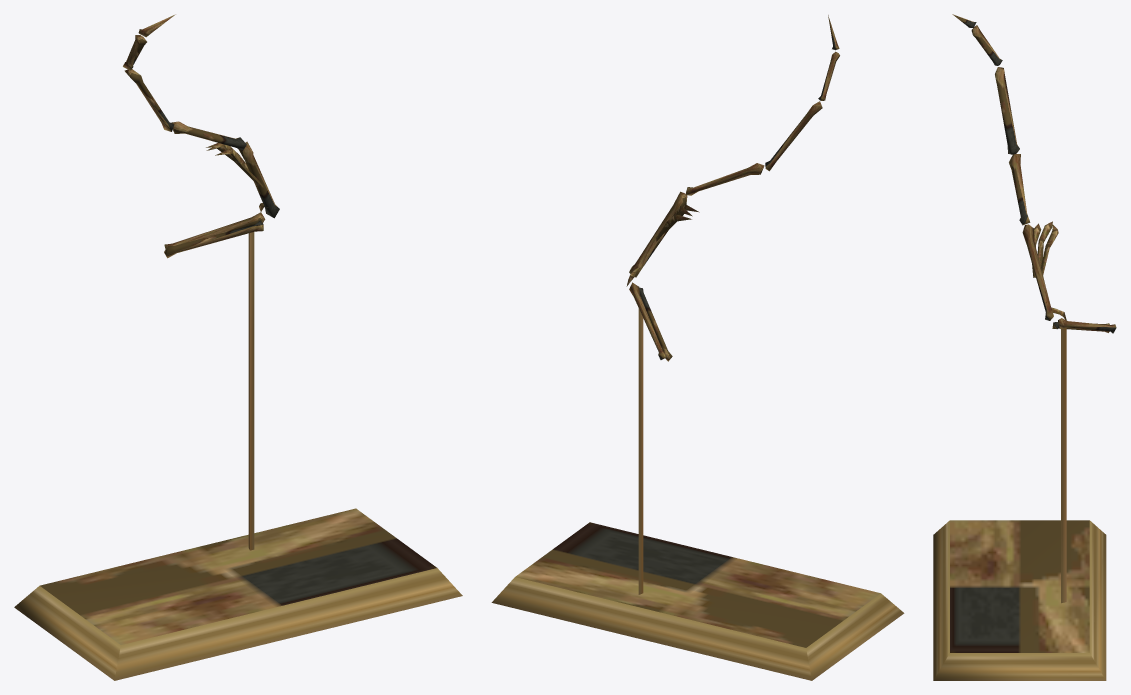
The model's file is int_din_pte_c.dae.
3 renders of one model, left to right at view 1: azimuth 30°, elevation 25°; view 2: azimuth 150°, elevation 25°; view 3: azimuth 270°, elevation 25°, orthographic. The views are drawn at different scales.
Parts seen in each view (by area): view 1: int_din_pte_c; view 2: int_din_pte_c; view 3: int_din_pte_c.
Boxes of the visible parts, bbox=[...] form: int_din_pte_c: bbox=[14, 14, 462, 680]; int_din_pte_c: bbox=[491, 15, 904, 680]; int_din_pte_c: bbox=[933, 14, 1116, 680].
Bounding box in the file's own units: 58.65 × 103 × 31.07.
1 material, 1 textured.
